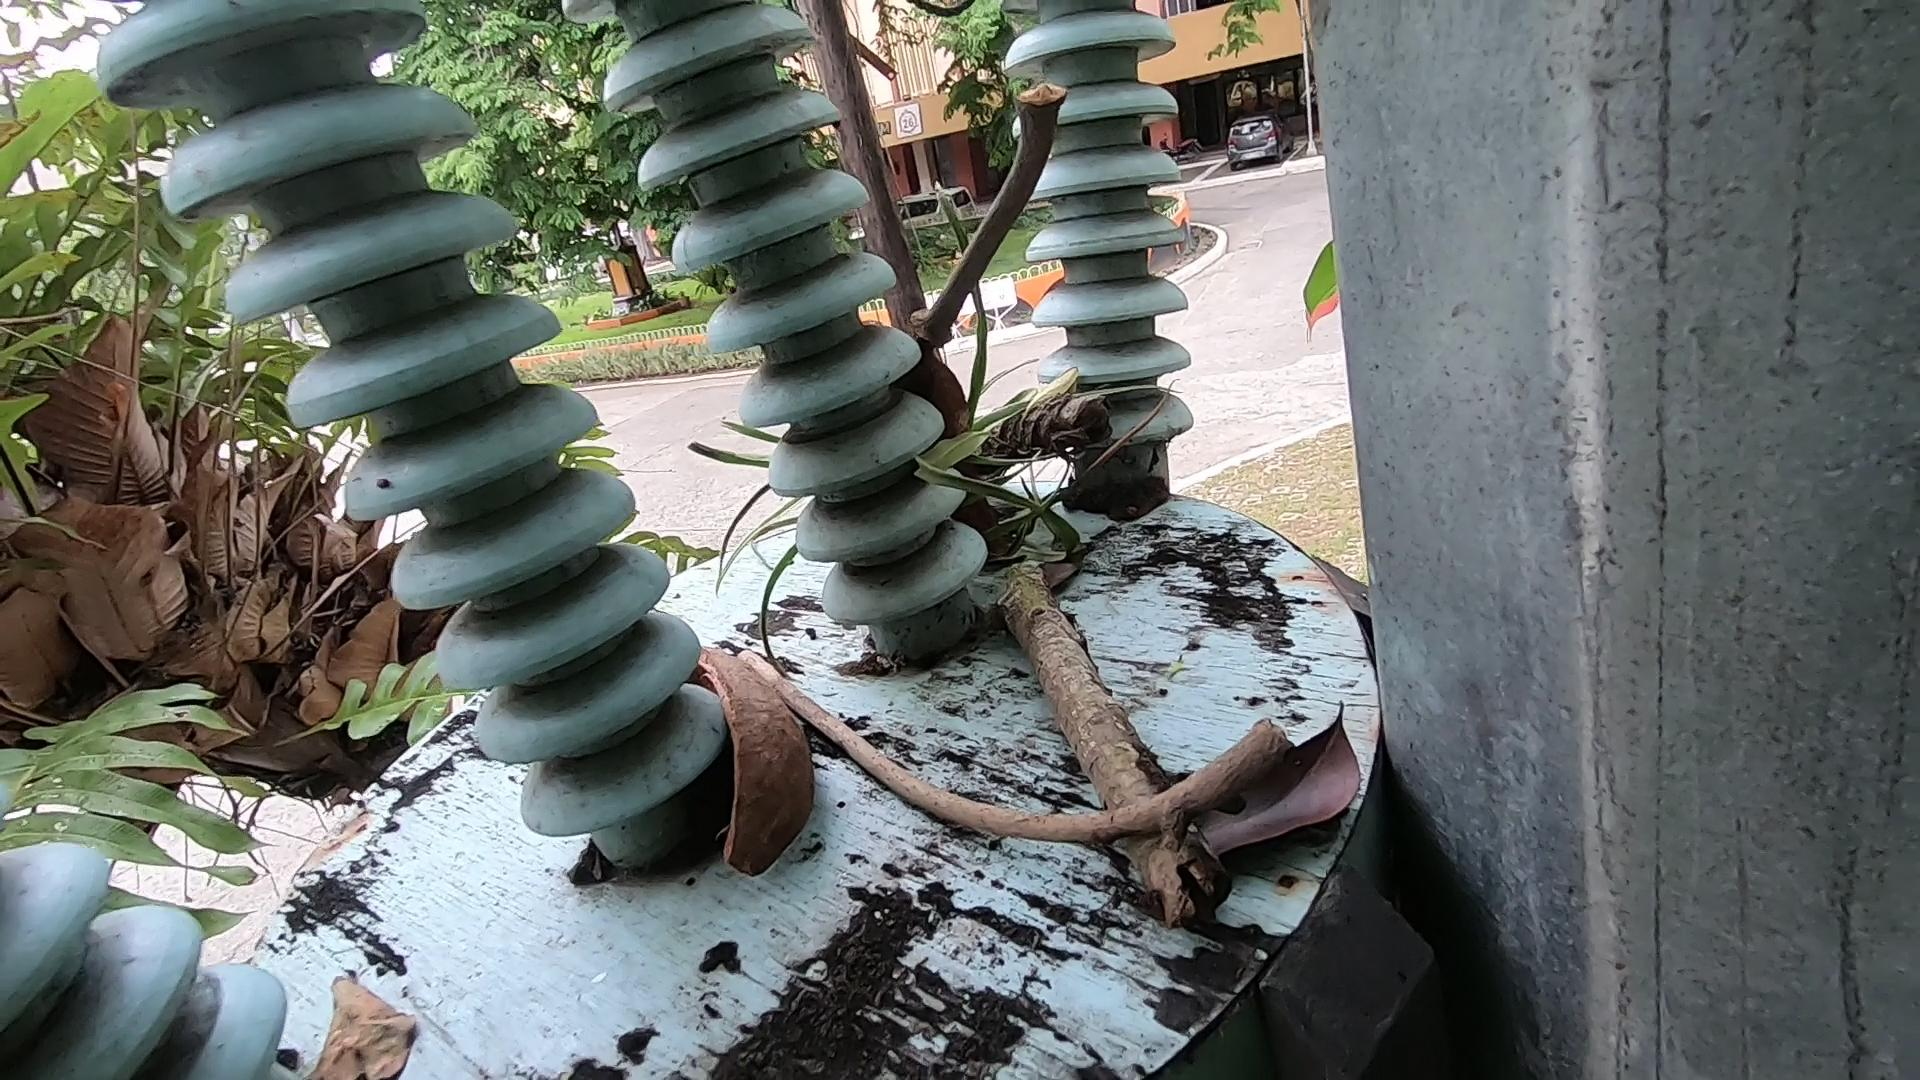branch with leaves: (922, 398, 1309, 915)
leaf: (274, 920, 524, 1080), (1197, 669, 1404, 847)
mahogany fruit: (899, 336, 1036, 585), (695, 628, 808, 913)
tree branch: (729, 628, 1313, 866), (880, 1, 1112, 409)
